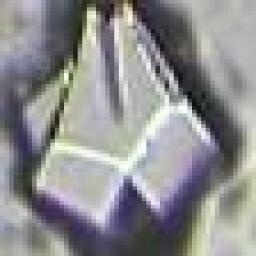crystals: (12, 3, 245, 252)
